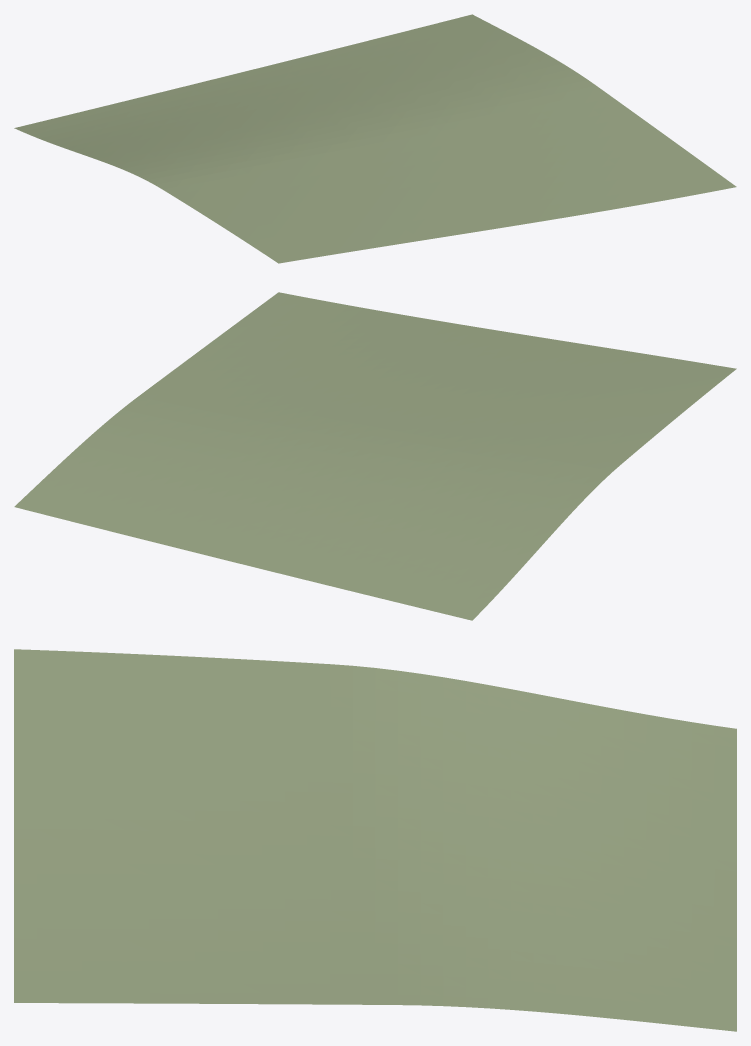
The model's file is valley-3-9.glb.
3 renders of one model, top to bottom at view 1: azimuth 30°, elevation 25°; view 2: azimuth 150°, elevation 25°; view 3: azimuth 270°, elevation 25°, orthographic. The views are drawn at different scales.
Parts seen in each view (by area): view 1: valley-3-9; view 2: valley-3-9; view 3: valley-3-9.
Boxes of the visible parts, x1,y1,x2,y2 form: valley-3-9: (14,14,736,263); valley-3-9: (14,292,736,620); valley-3-9: (14,649,736,1031).
Bounding box in the file's own units: 256 × 31.14 × 256.
